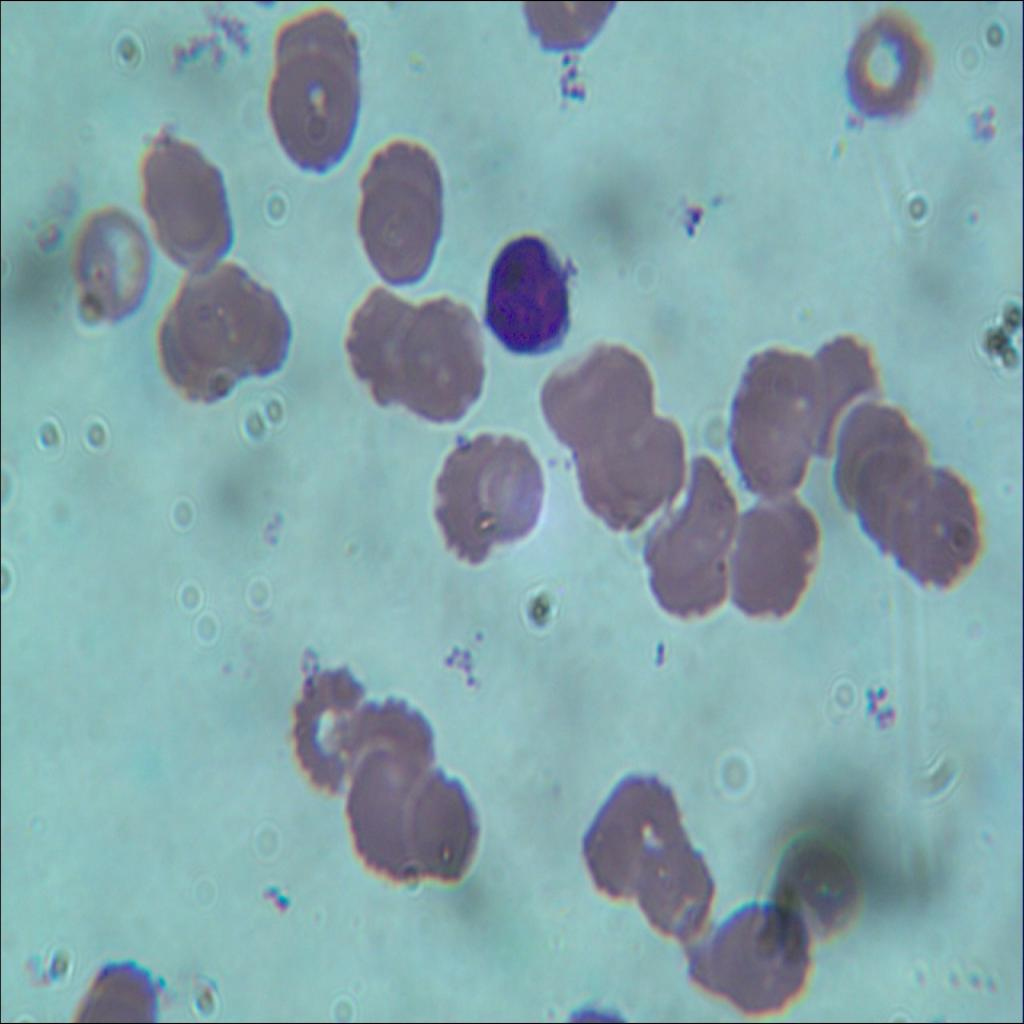Eritrosit: (166, 258, 293, 387), (581, 768, 688, 909), (640, 460, 733, 618), (430, 438, 544, 566), (536, 338, 650, 458), (138, 131, 234, 268), (340, 757, 446, 881), (729, 351, 820, 494), (335, 692, 434, 822), (580, 418, 682, 531), (895, 464, 983, 594), (293, 654, 373, 796), (266, 49, 356, 174), (708, 904, 804, 1016), (838, 14, 938, 120), (68, 205, 154, 328), (403, 299, 488, 422), (798, 339, 882, 459), (780, 828, 858, 954), (838, 398, 924, 512), (344, 285, 422, 407), (724, 508, 806, 622), (362, 131, 444, 242), (851, 445, 936, 551), (404, 766, 478, 882), (638, 838, 718, 944), (354, 182, 440, 278), (271, 8, 356, 104)
Limfoblast: (476, 228, 576, 358)
Platelet: (681, 197, 706, 241), (958, 194, 984, 235), (649, 636, 682, 666), (264, 872, 286, 915), (469, 621, 490, 647)
